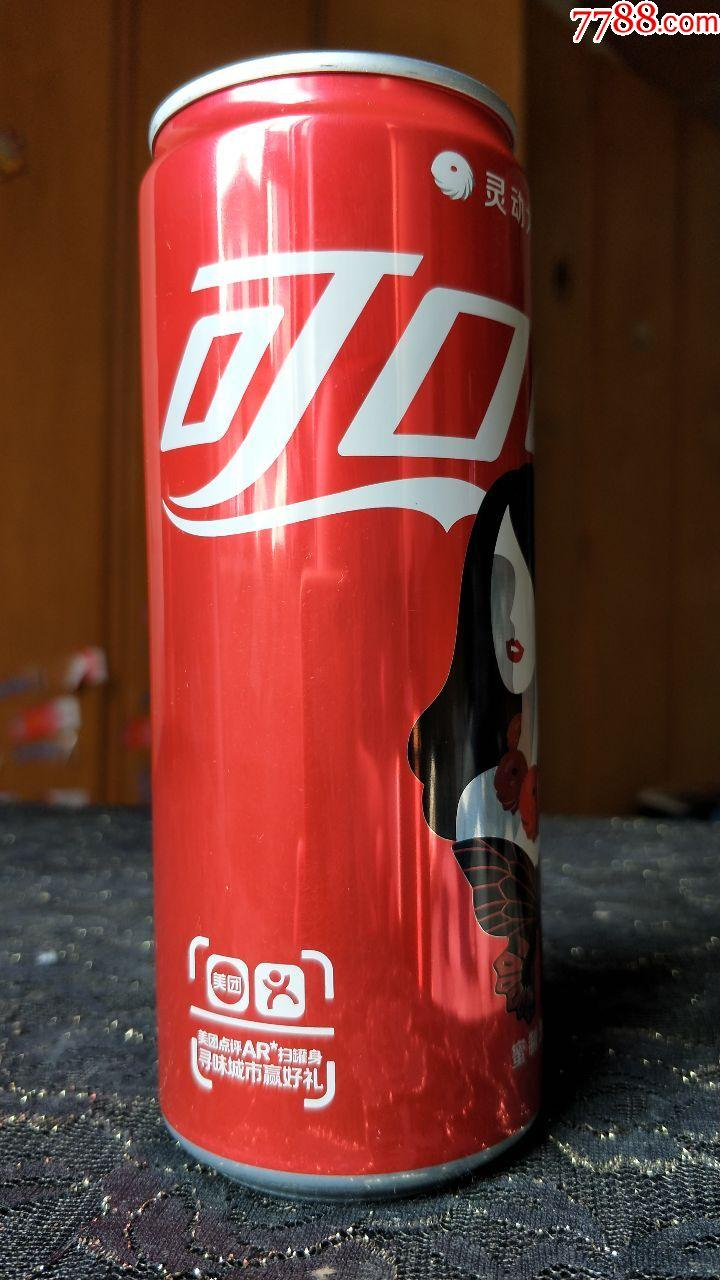metal: (140, 51, 540, 1194)
